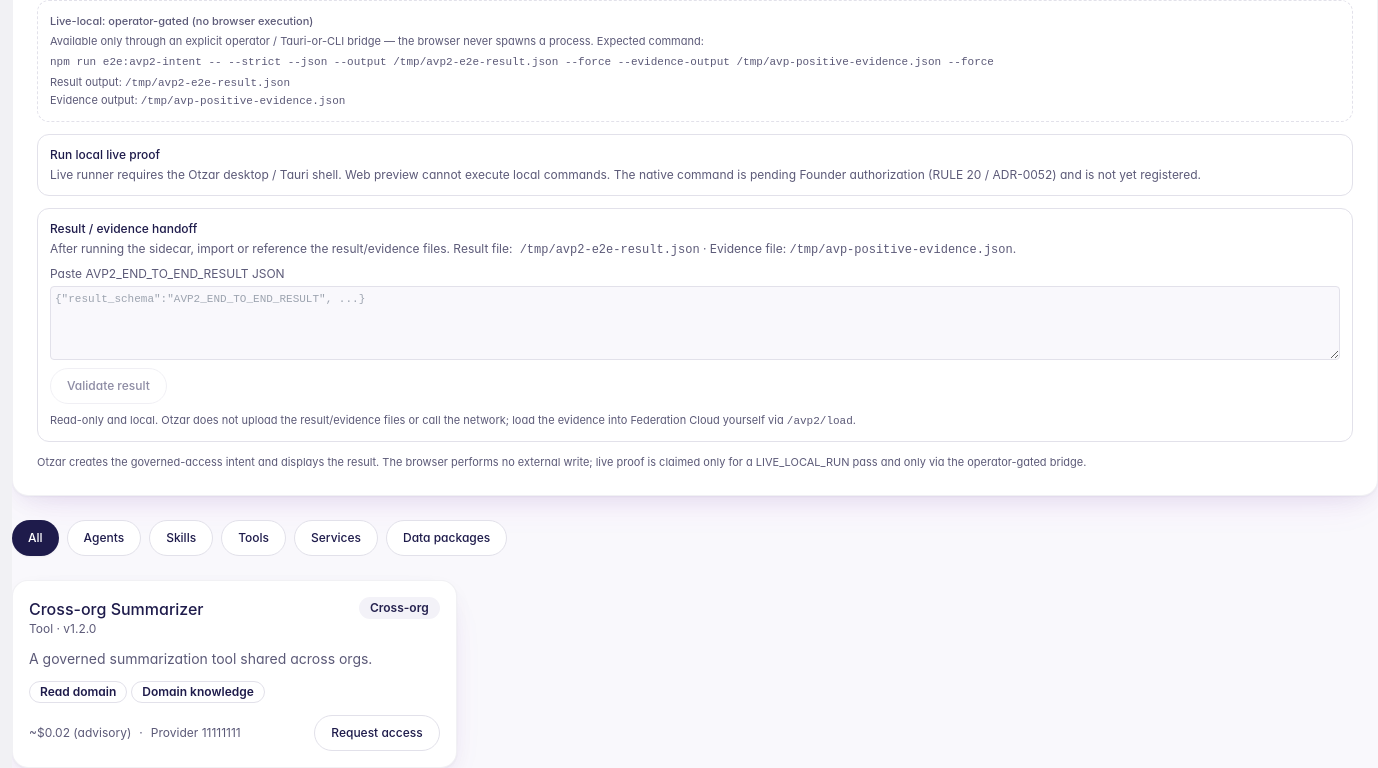
Marketplace discovery — catalog › the type filter re-queries with the selected listing_type
This screenshot has width=1378, height=768.
(page scrolled)
Check: the text "Cross-org Summarizer" is shown, box top-left (29, 596), bottom-right (204, 620)
Click the button with test id "filter-DATA_PACKAGE" at [447, 538], box top-left (386, 520), bottom-right (507, 556)
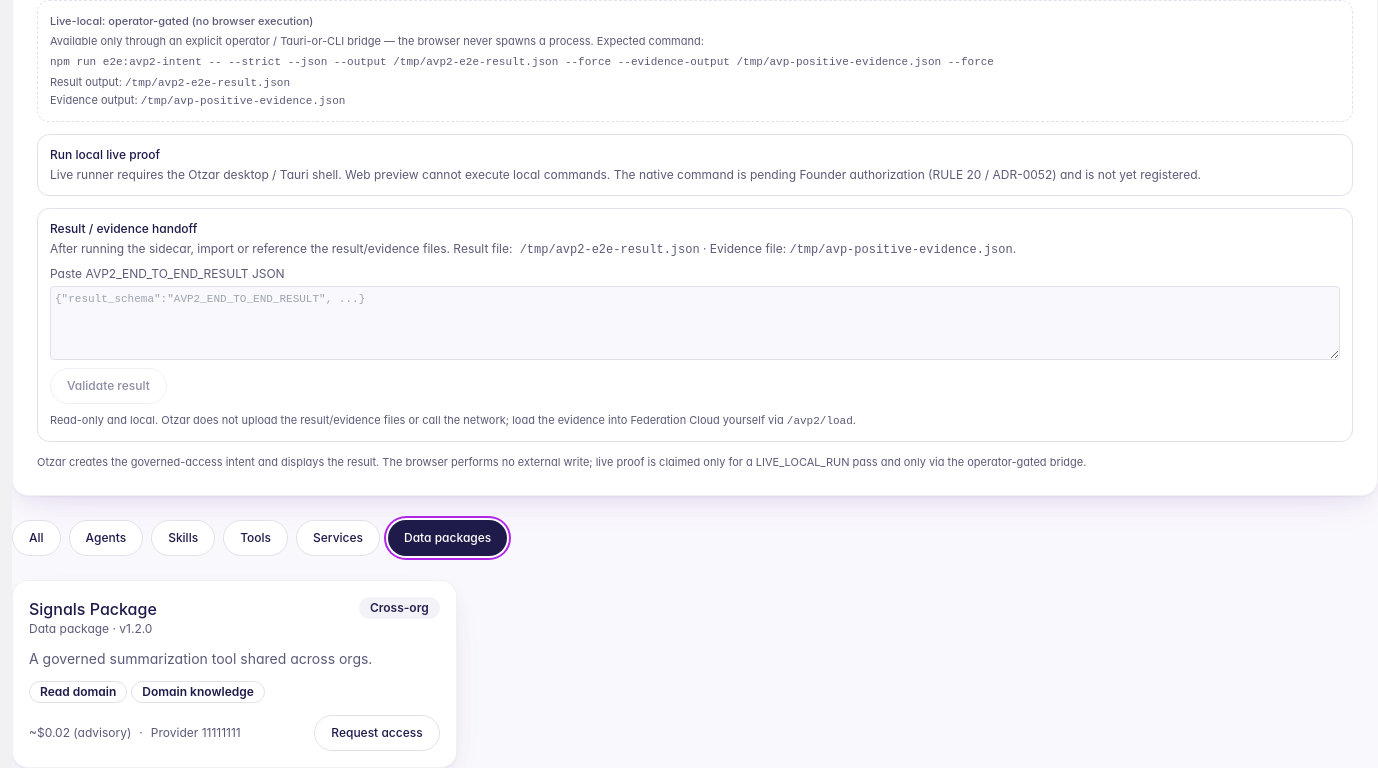
Check: the text "Signals Package" is shown, box top-left (29, 596), bottom-right (157, 620)
Check: the text "Cross-org Summarizer" is gone
